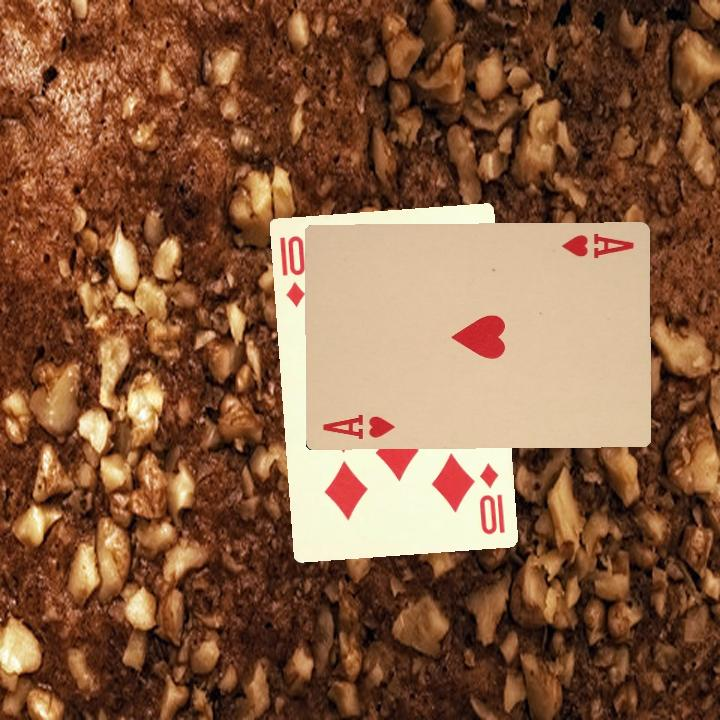10d: (475, 459, 508, 537), (276, 231, 308, 310)
Ah: (558, 229, 637, 261), (318, 410, 397, 442)
